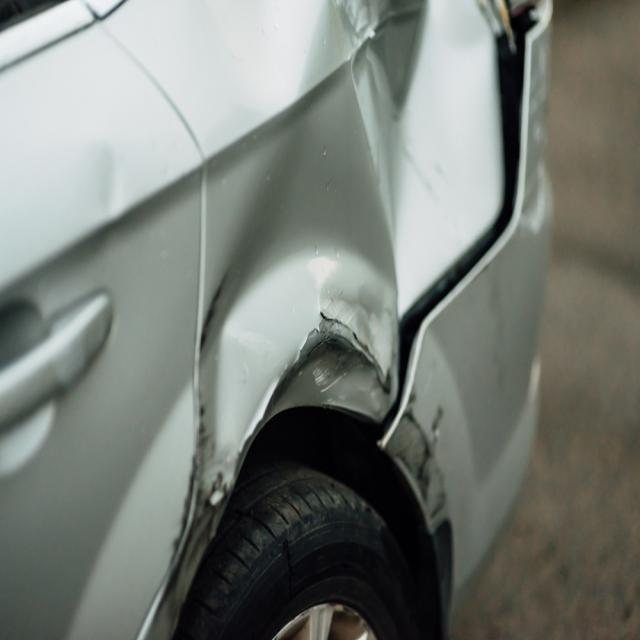Cabossage: (209, 110, 397, 489), (336, 0, 517, 292)
Rayure: (160, 249, 234, 588), (286, 302, 390, 413), (380, 404, 453, 503)
